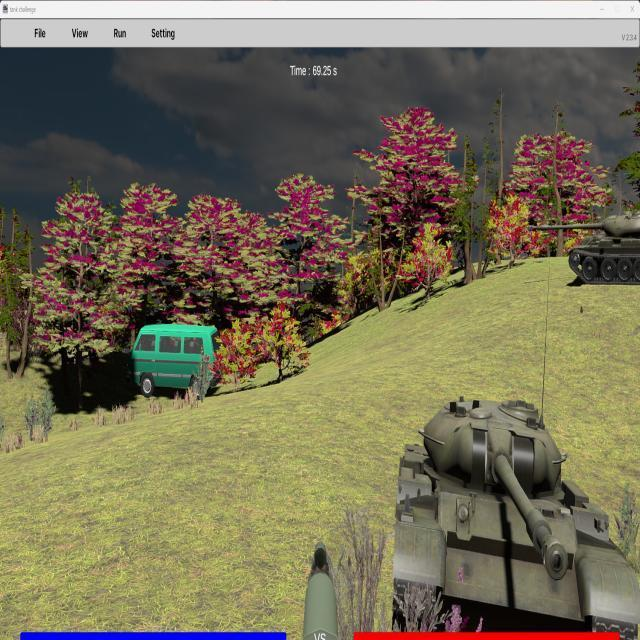Tank: (393, 395, 639, 638), (528, 211, 640, 286)
car: (127, 323, 223, 399)
